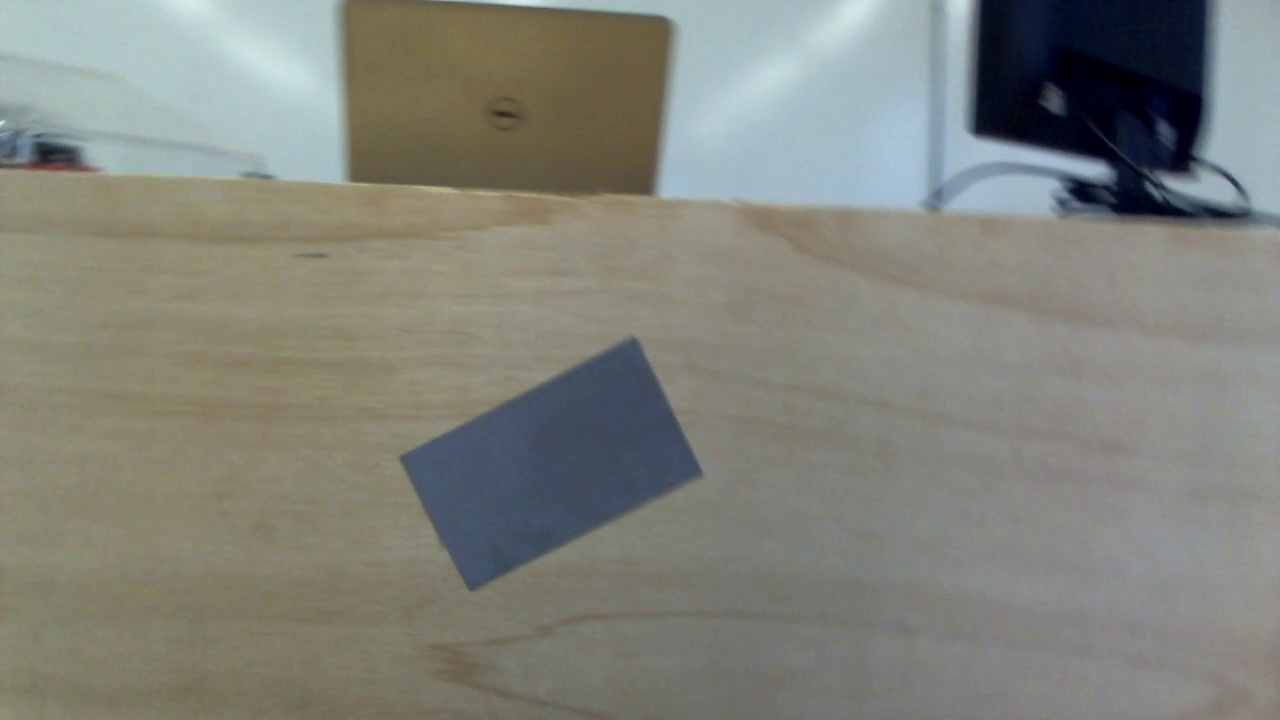Tape: (399, 339, 707, 591)
